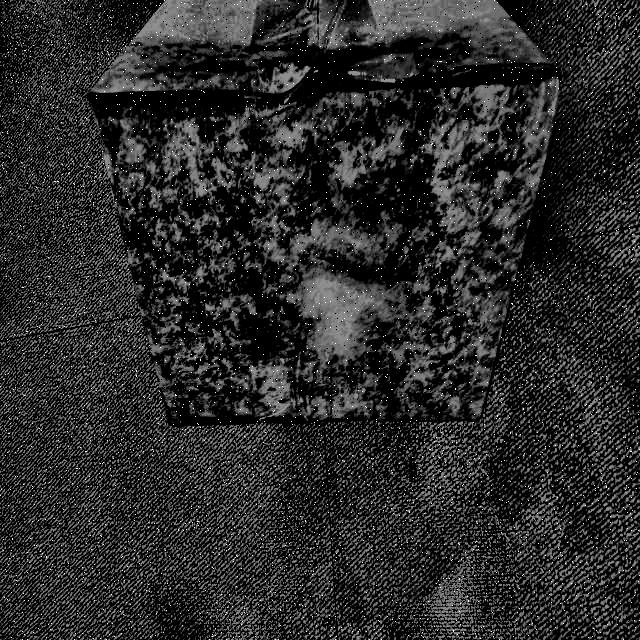box: (88, 0, 580, 434)
wet: (94, 20, 542, 431)
